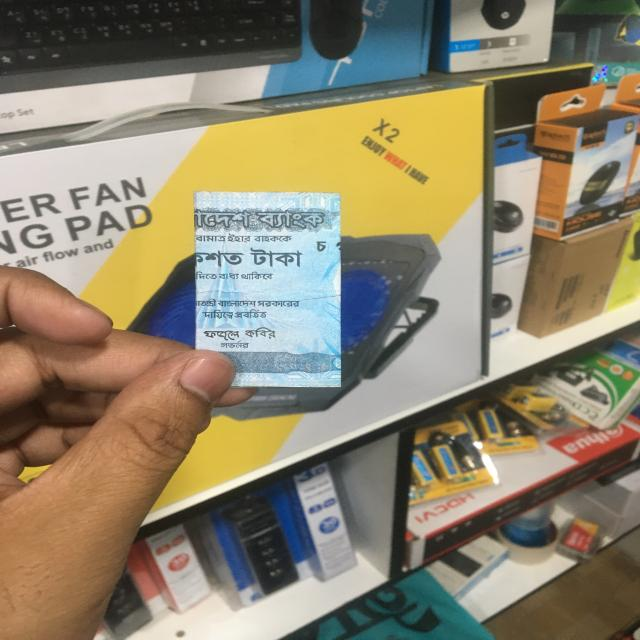Taka: (195, 194, 325, 373)
